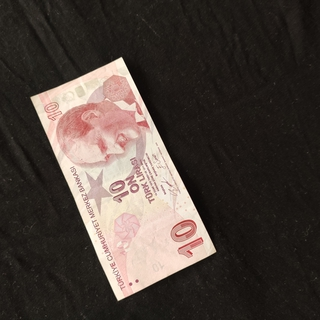10TLFront: (29, 55, 218, 302)
